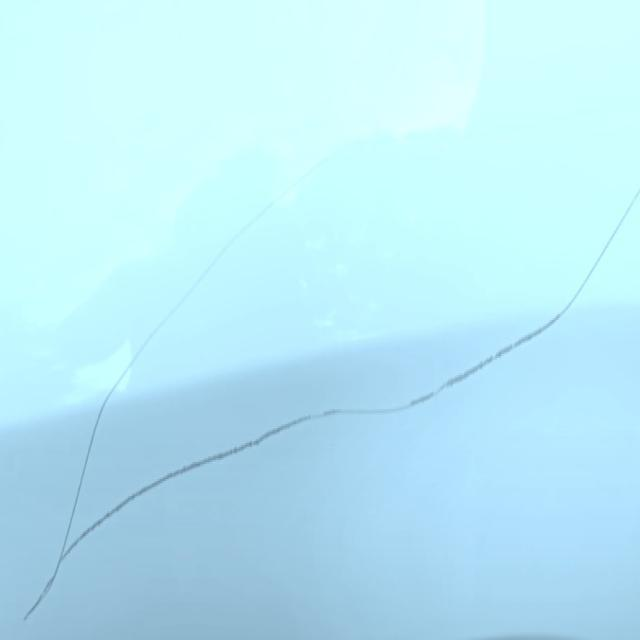crack: (68, 238, 640, 572), (54, 238, 244, 408)
